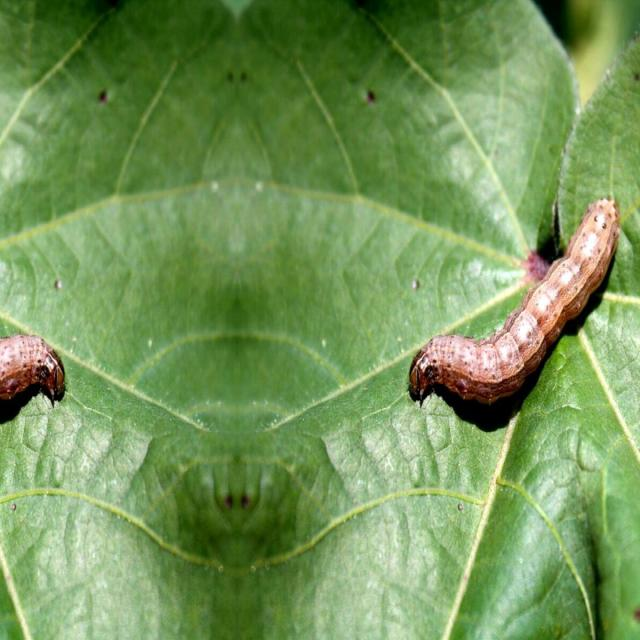Armyworm: (356, 186, 640, 445), (1, 260, 76, 458)
